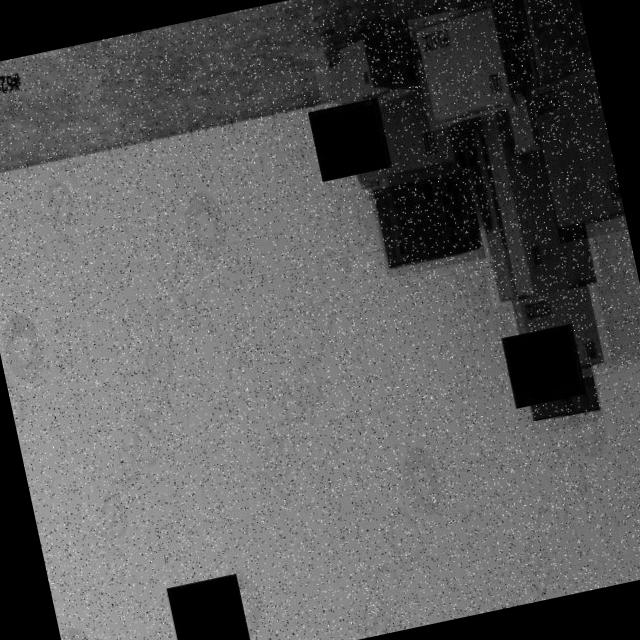box: (450, 80, 602, 309), (350, 84, 486, 278), (527, 72, 628, 244), (407, 1, 519, 131), (338, 80, 461, 194), (506, 276, 614, 389), (310, 29, 420, 110), (484, 0, 539, 161), (504, 0, 595, 91), (521, 358, 605, 434)
